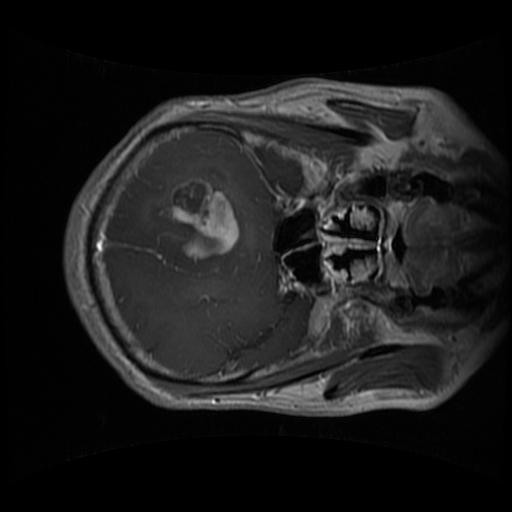glioma: (147, 179, 240, 259)
